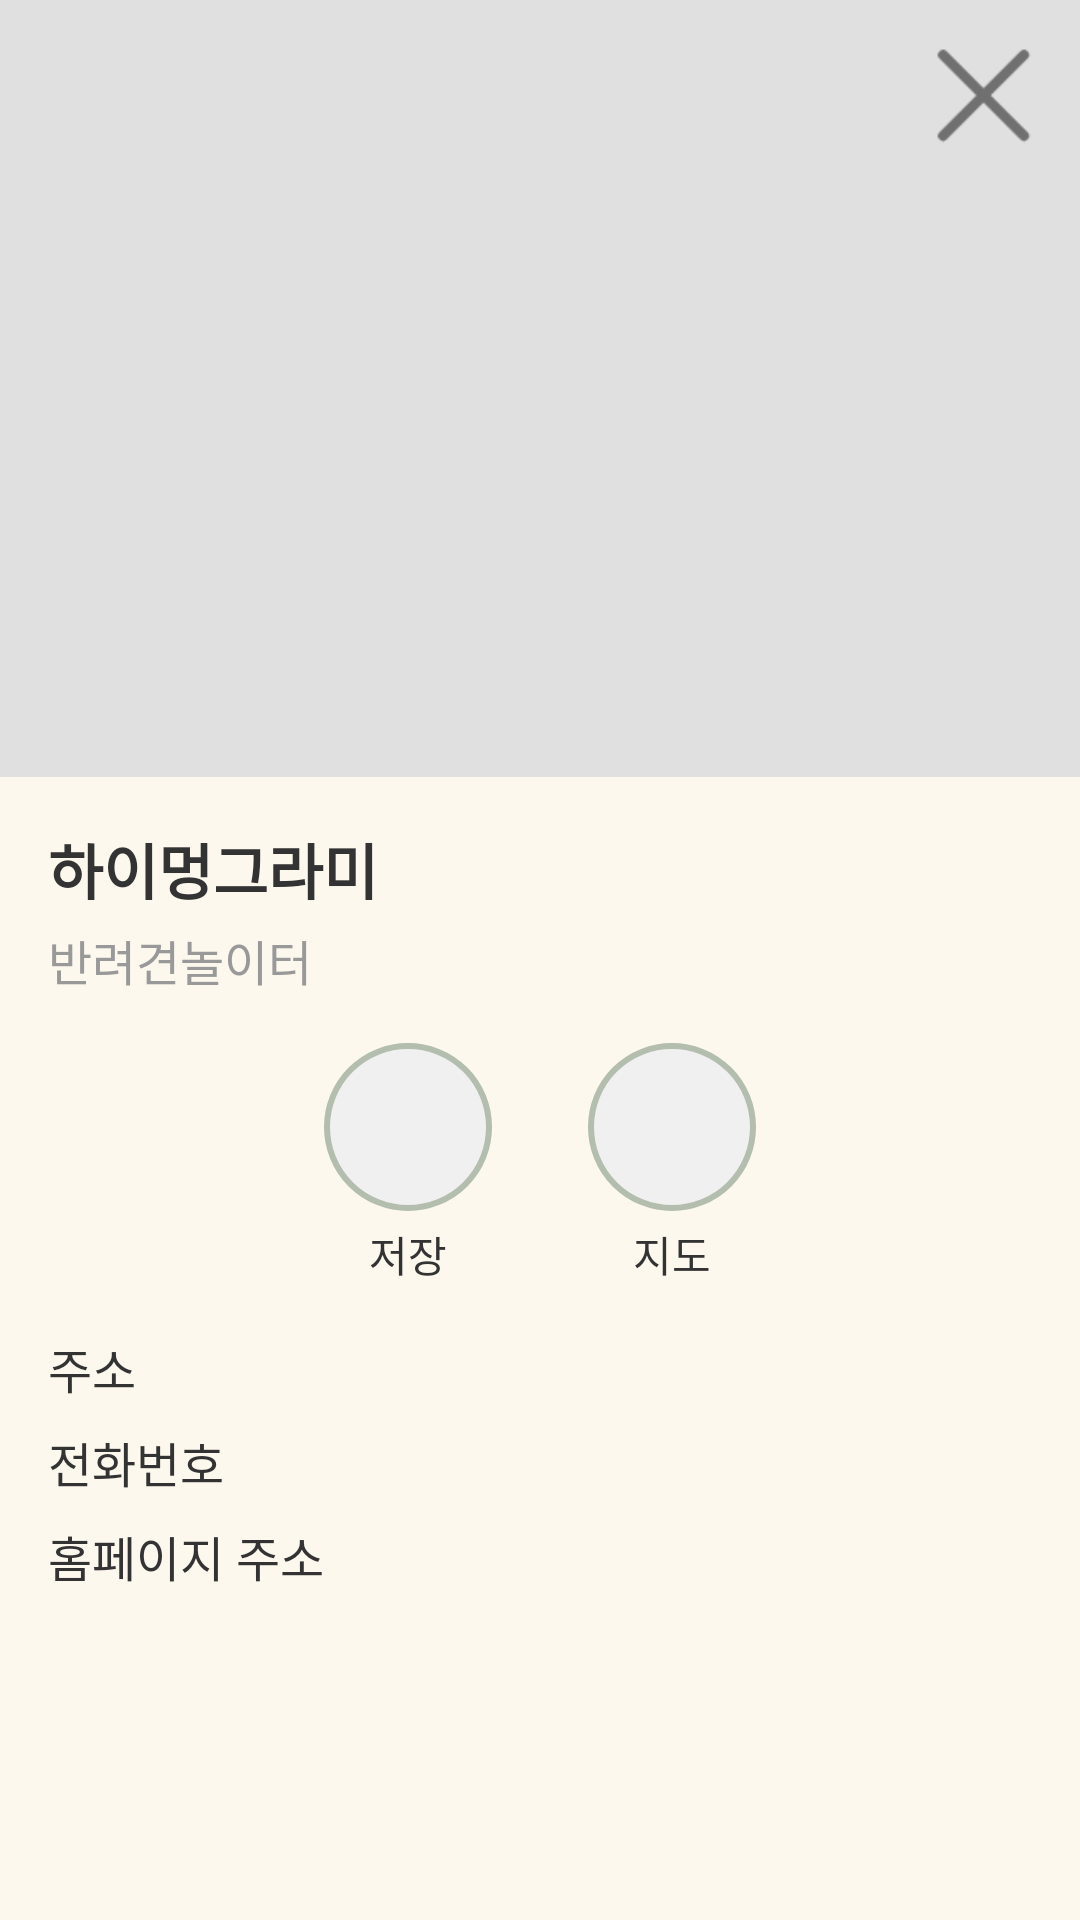

Icon bounding boxes for this 1080 × 1920 phone screenshot, format (x1, y1, x2, y2):
닫기 버튼: (937, 49, 1030, 142)
